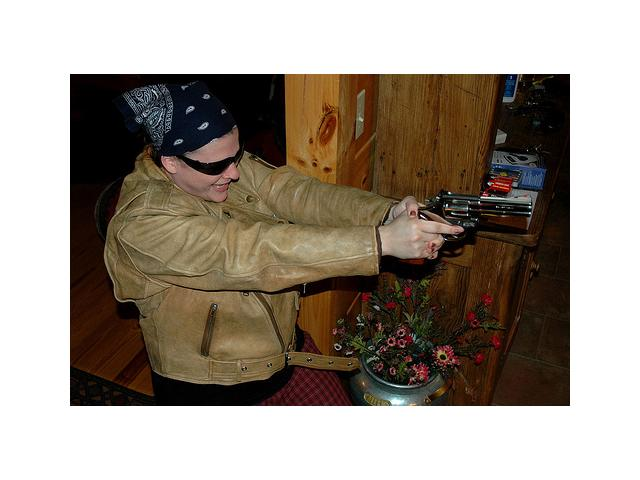pistol: (409, 188, 534, 271)
